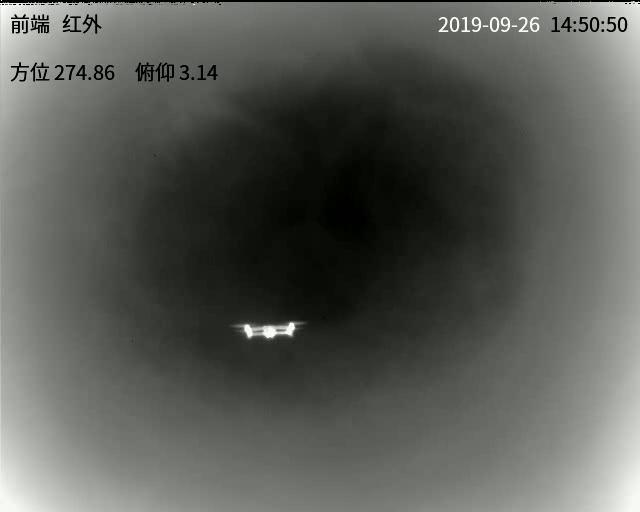DRONE: (234, 319, 300, 338)
